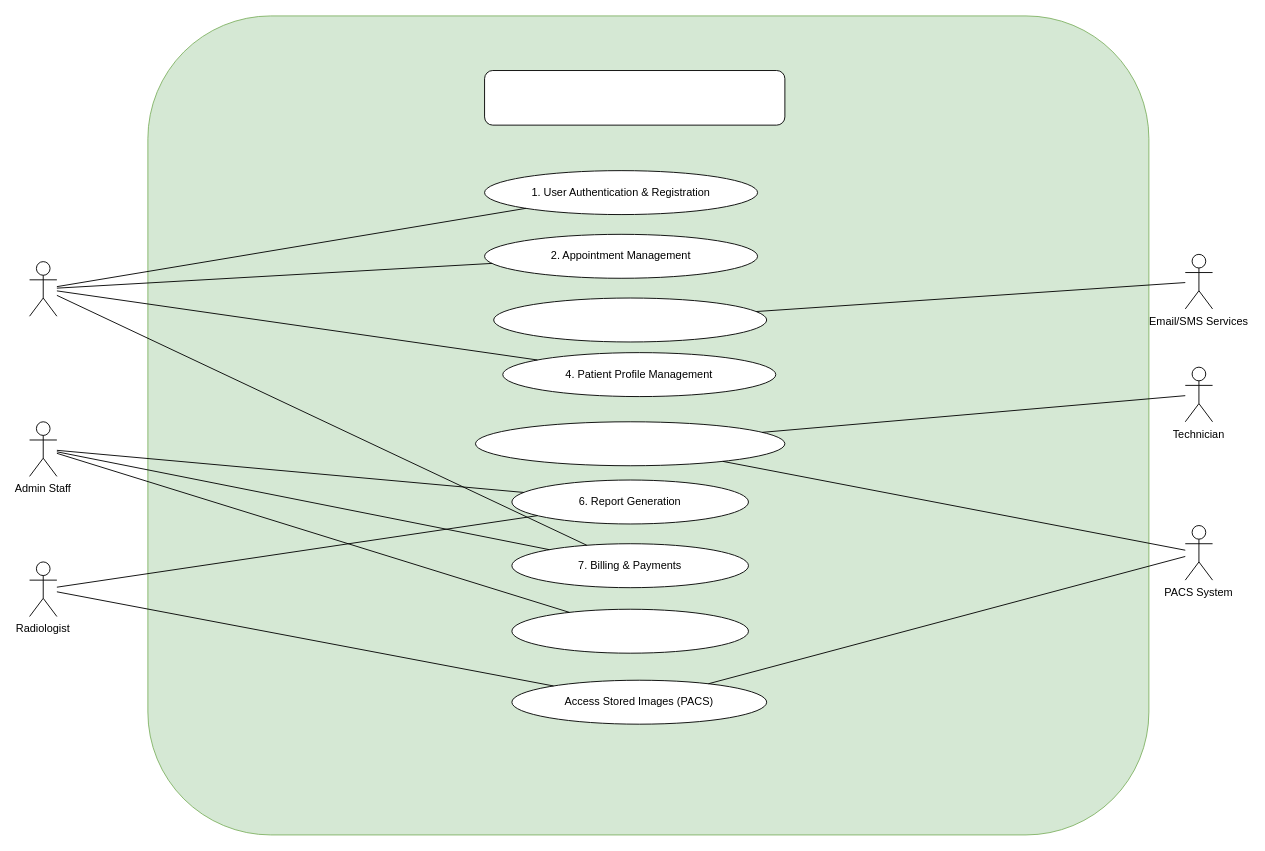
Image size: 1265x851. Some labels were removed from this diagram. The box of each missing label's shape, as (x1, y1, x2, y2) in pixels:
3. Notification Management: (493, 297, 767, 342)
5. MRI Scans Management (PACS): (475, 421, 785, 466)
8. System Administration: (511, 608, 748, 653)
MRI Online Bookimg System: (484, 70, 785, 125)
Patient: (29, 261, 57, 316)
